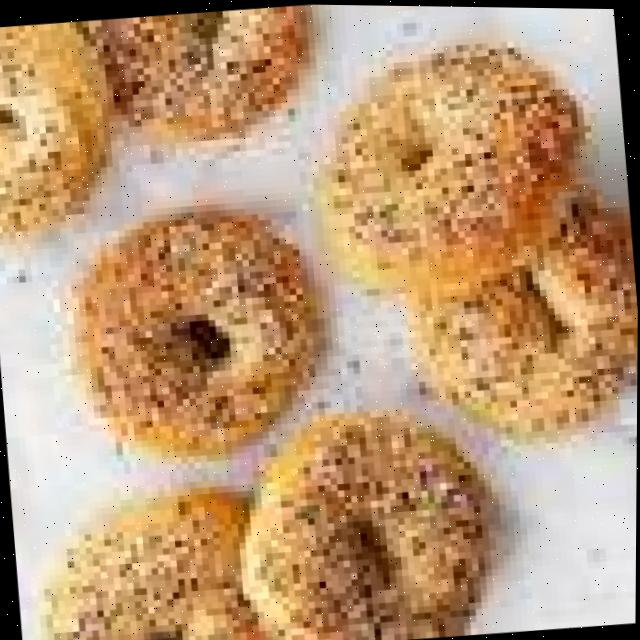Bagel: (325, 44, 583, 301), (243, 410, 492, 640), (78, 213, 314, 452), (49, 489, 267, 640), (104, 4, 303, 140), (0, 19, 112, 232)
